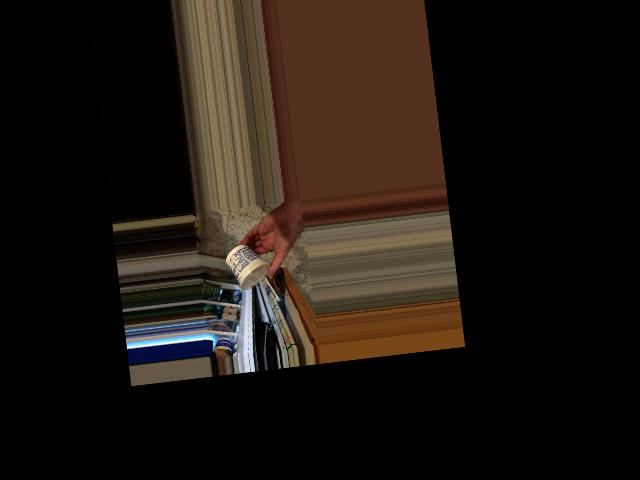cotage: (226, 243, 269, 291)
